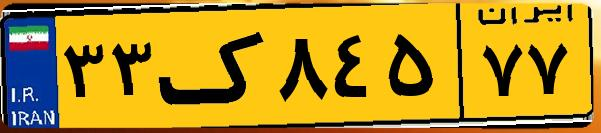3: (57, 26, 110, 100), (110, 28, 158, 98)
4: (330, 28, 385, 110)
5: (385, 28, 445, 110)
7: (475, 38, 525, 113), (525, 38, 570, 115)
8: (270, 28, 330, 110)
ک: (158, 12, 270, 120)
